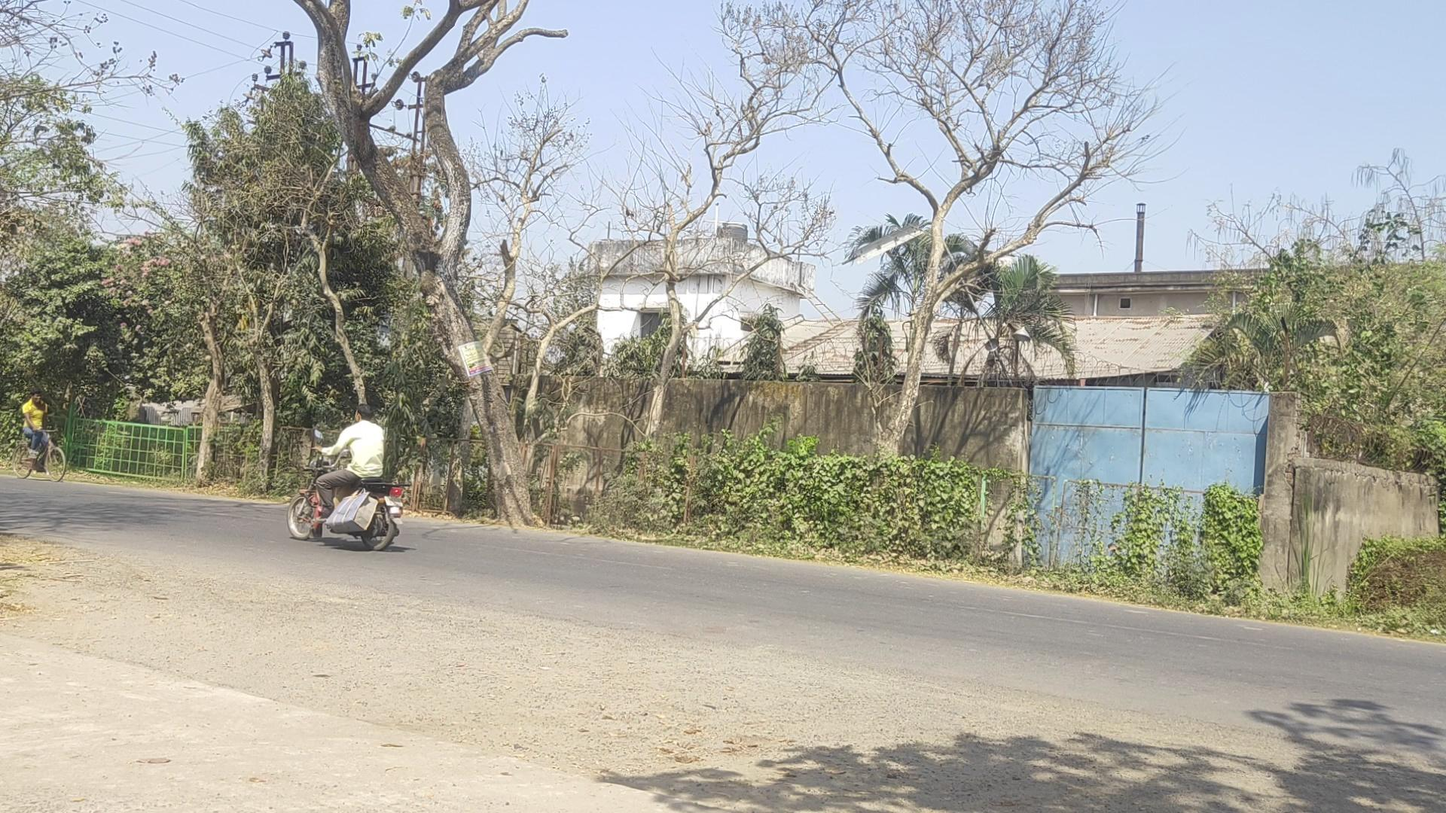bike: (287, 404, 411, 551), (12, 389, 66, 483)
